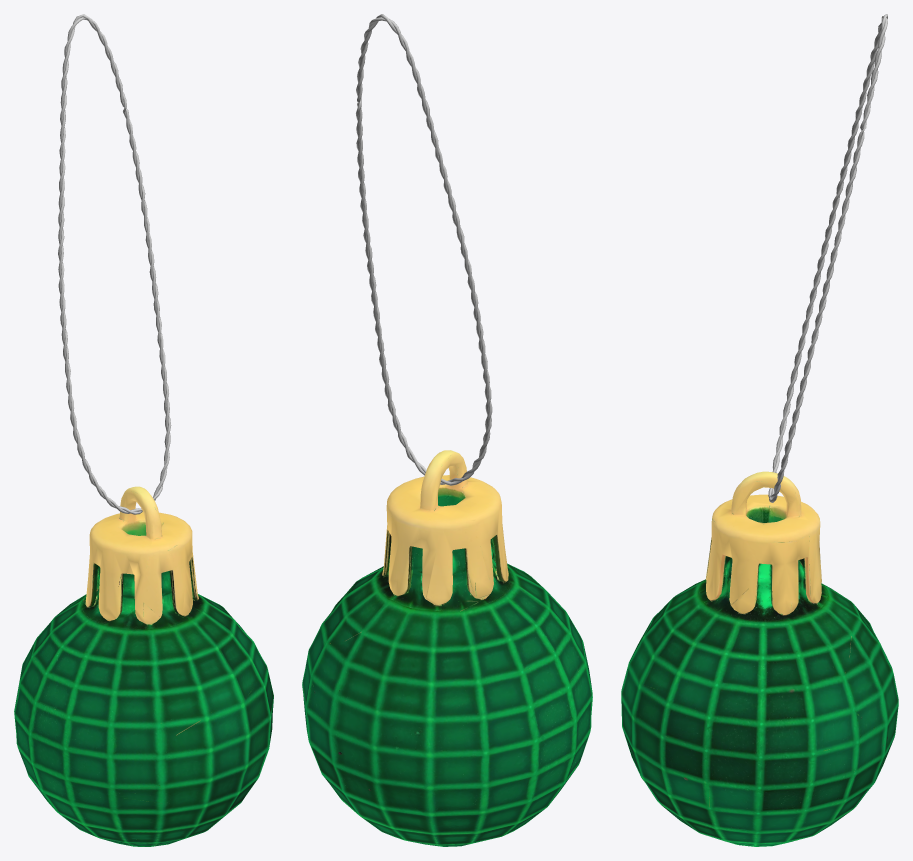
File: Emerald_Tile_Orb.glb
3 renders of one model, left to right at view 1: azimuth 30°, elevation 25°; view 2: azimuth 150°, elevation 25°; view 3: azimuth 270°, elevation 25°, orthographic. The views are drawn at different scales.
Parts seen in each view (by area): view 1: Mesh1.0, GN Instance; view 2: Mesh1.0, GN Instance; view 3: Mesh1.0, GN Instance.
Boxes of the visible parts, bbox=[...] form: Mesh1.0: bbox=[14, 486, 273, 846]; GN Instance: bbox=[58, 14, 171, 514]; Mesh1.0: bbox=[302, 450, 592, 846]; GN Instance: bbox=[356, 14, 492, 485]; Mesh1.0: bbox=[621, 471, 898, 846]; GN Instance: bbox=[768, 14, 887, 502].
Size of the model in its own units: 0.0278 by 0.0905 by 0.0278.
Materials: 2 (1 with a texture image).
